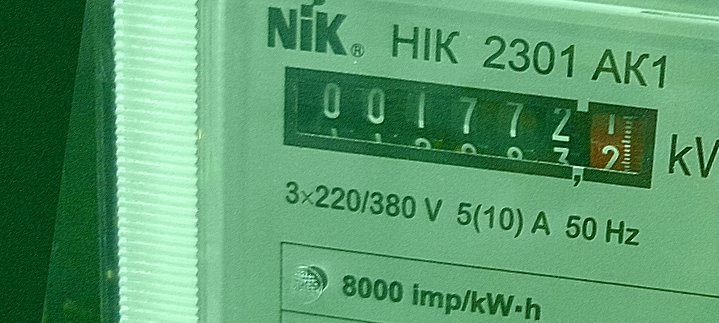0: (314, 76, 347, 119), (362, 82, 390, 124)
1: (410, 87, 432, 128), (602, 110, 619, 137)
2: (547, 104, 575, 143), (594, 139, 621, 170)
3: (549, 142, 573, 166)
7: (452, 92, 480, 135), (499, 97, 525, 138)
screen: (261, 44, 679, 207)
